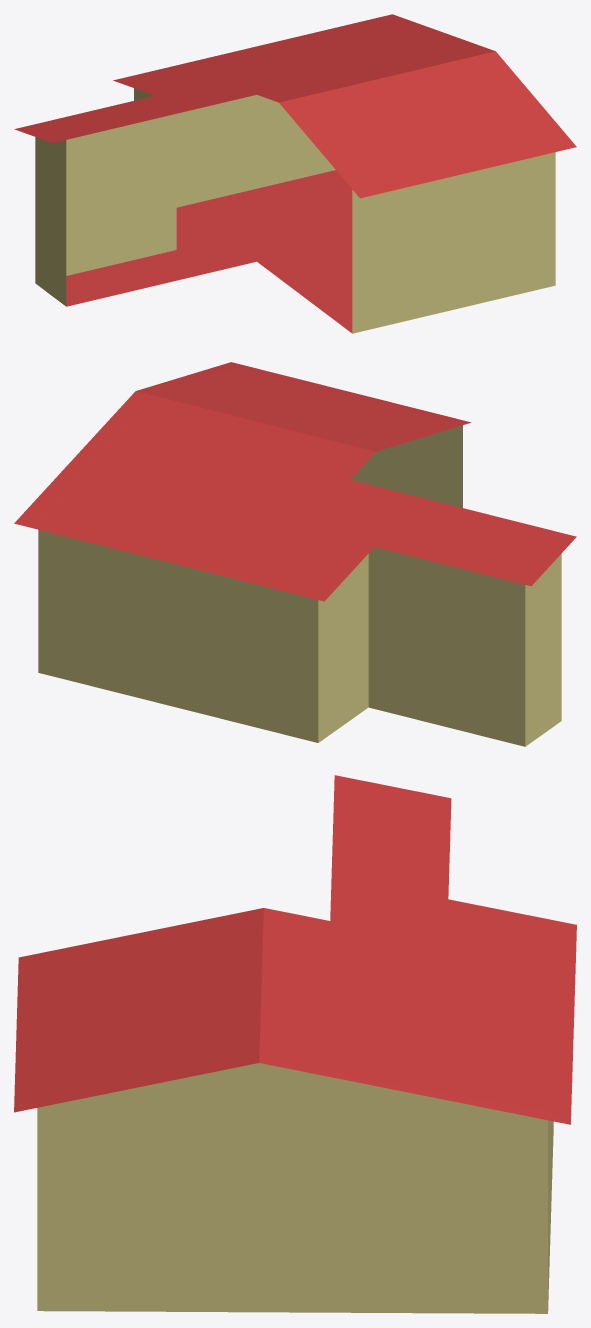
3 views of the same model, one above another, from view 1: azimuth 30°, elevation 25°; view 2: azimuth 150°, elevation 25°; view 3: azimuth 270°, elevation 25° (orthographic). The views are drawn at different scales.
Bounding box in the file's own units: 15.47 × 12.17 × 6.18.
